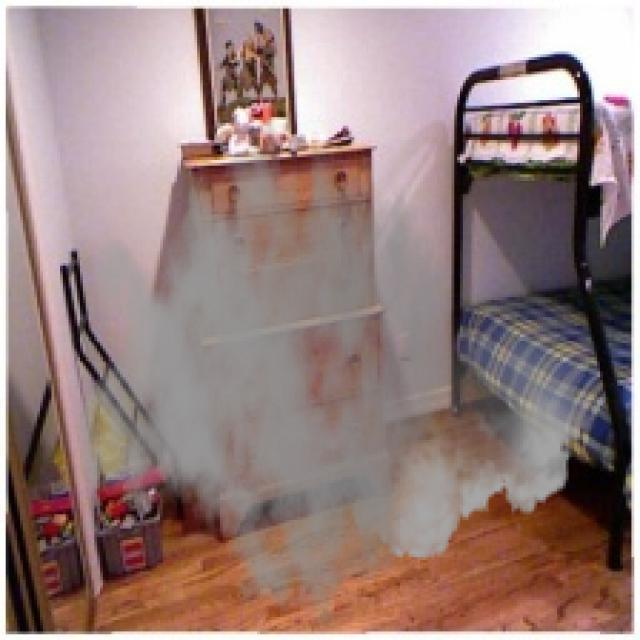Smoke: (74, 89, 597, 628)
